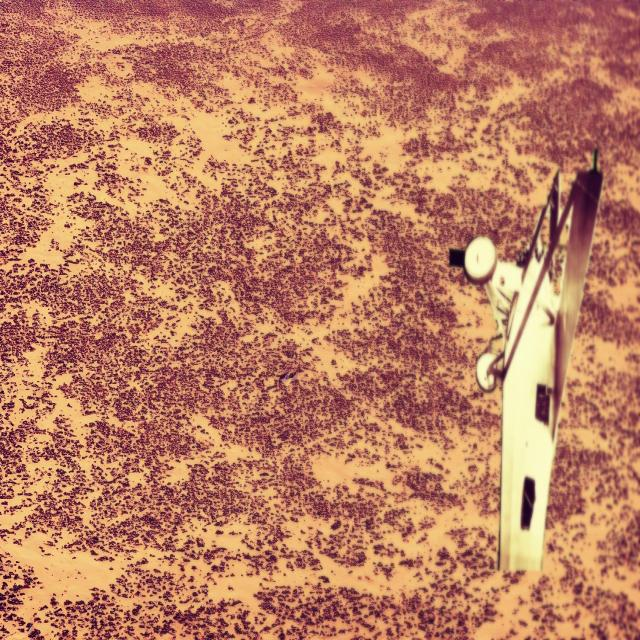airplane: (448, 147, 603, 572)
